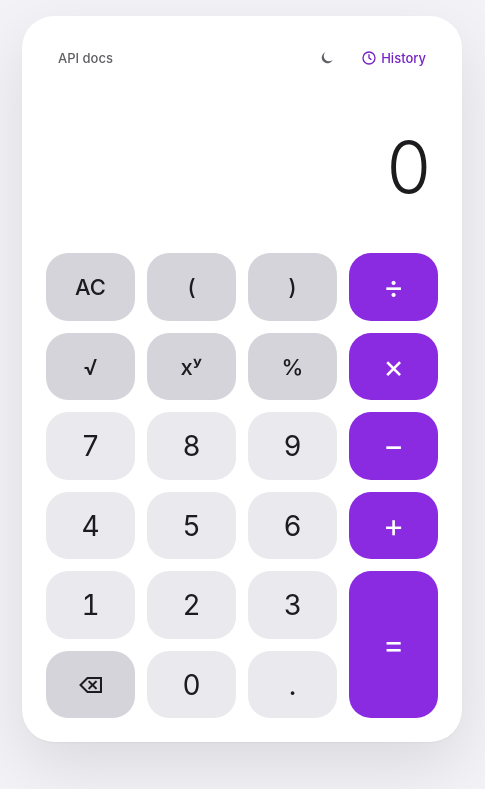
Scenario: Calculator › applies operator precedence: 2 + 3 × 4 = 14
Click the button "2". click: (192, 605)
box: [147,572,236,639]
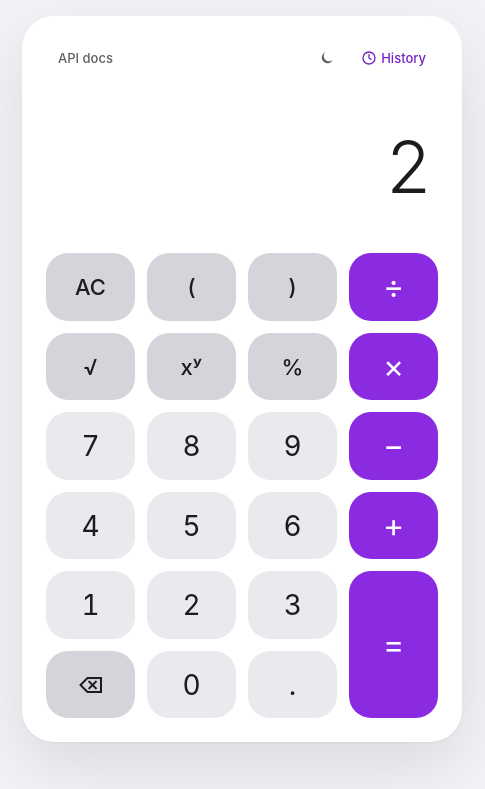
Click the button named "add". click: (394, 526)
box: [349,492,438,560]
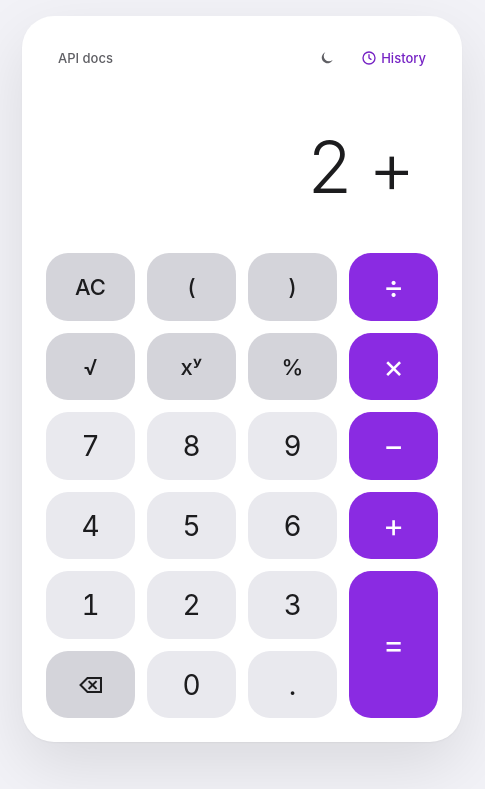
Click the button "3". click: (292, 605)
box: [248,572,337,639]
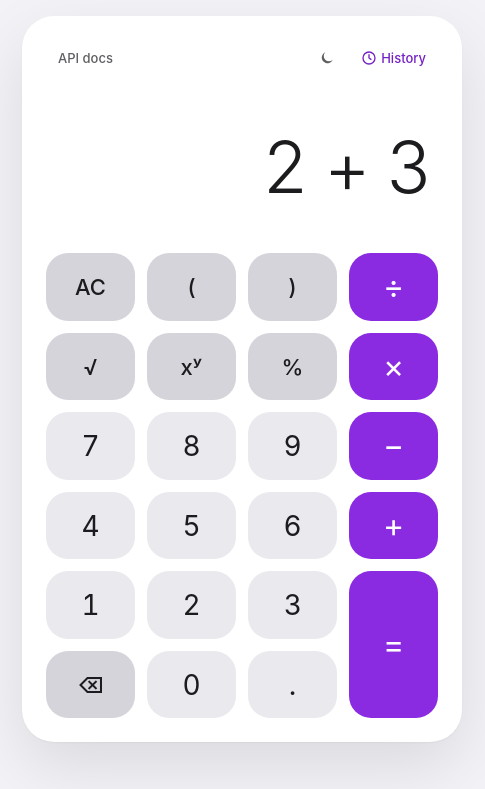
Click the button named "multiply". click: (394, 367)
box: [349,333,438,400]
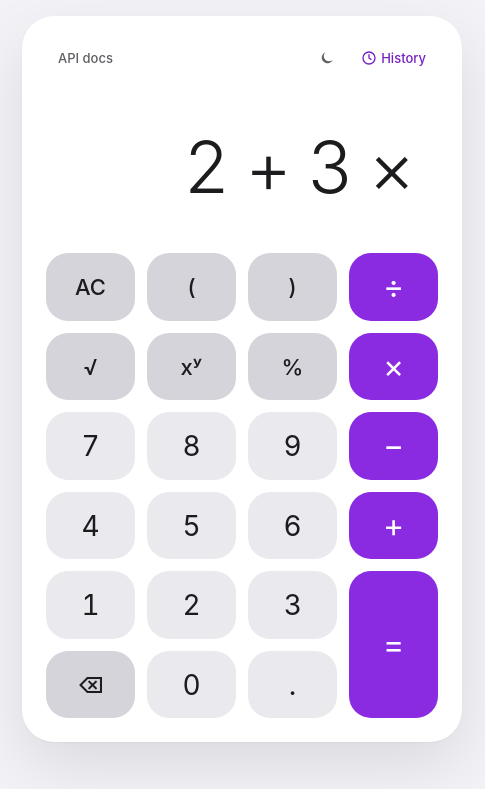
Click the button "4". click: (90, 526)
box: [46,492,135,560]
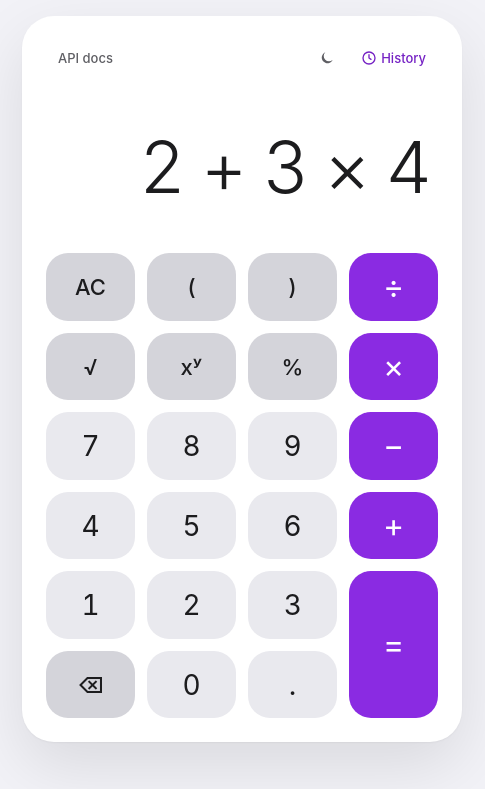
Click the button named "equals". click: (394, 645)
box: [349,572,438,718]
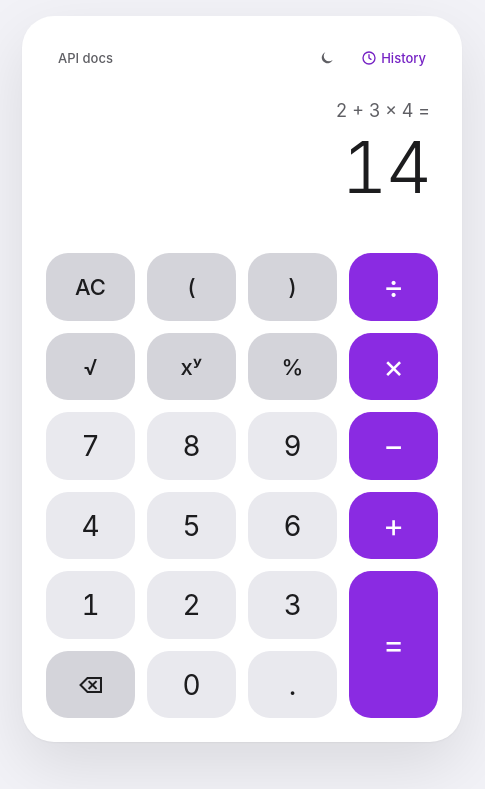
Result: the element showing "14" is shown at [341,129,430,204]
Result: the element named "display" shows "2 + 3 × 4 =" at [336,100,430,210]
